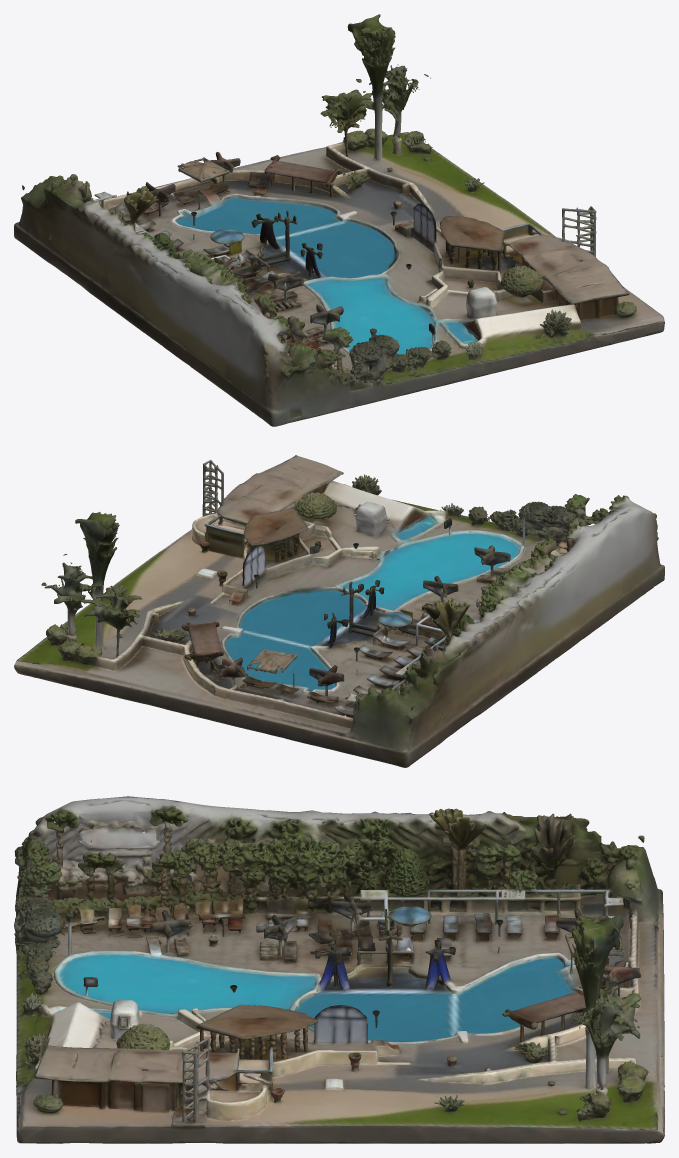
The model's file is coral-beach-village-2.glb.
3 views of the same model, one above another, from view 1: azimuth 30°, elevation 25°; view 2: azimuth 150°, elevation 25°; view 3: azimuth 270°, elevation 25° (orthographic). The views are drawn at different scales.
Bounding box in the file's own units: 0.871 × 0.3223 × 1.
1 material, 1 textured.
